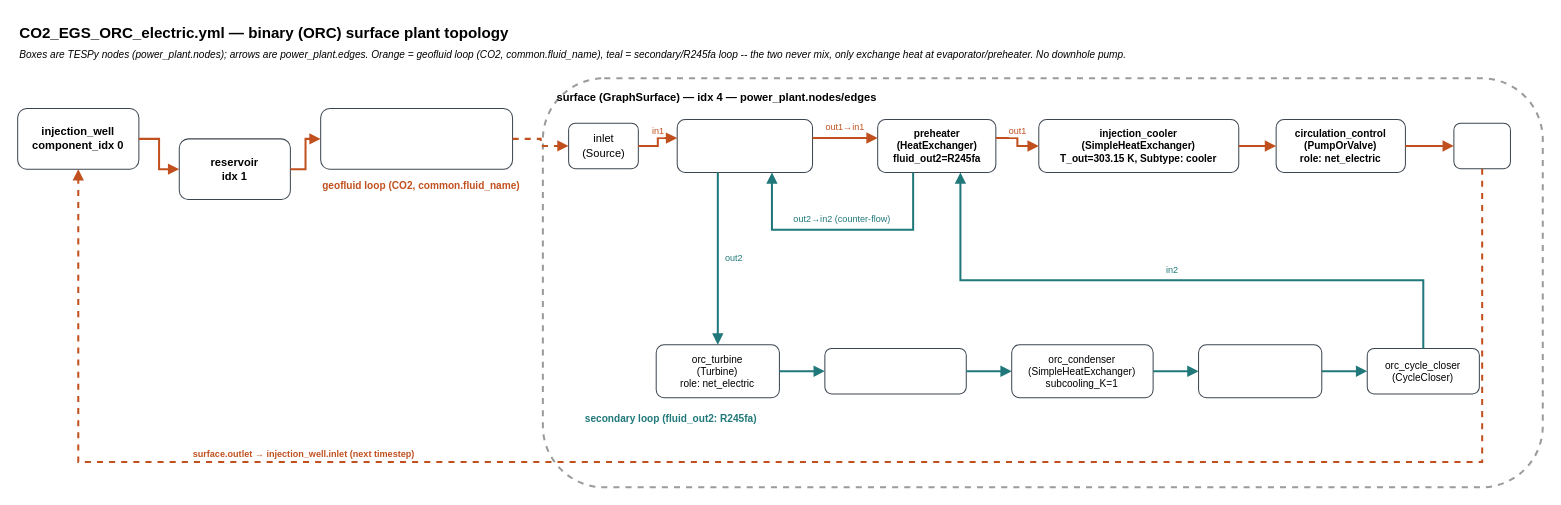
The diagram is 1561 pixels wide and 505 high, and some of its shapes have lost their labels. Here are the shapes that lost their labels. From the top down, the centre of each, then its label:
At point (416, 138): "production_well_lower → _upper idx 2 → 3, no downhole pump".
At point (744, 145): "evaporator (HeatExchanger) ttd_l=7, pr1/pr2=1.0".
At point (1481, 145): "outlet (Sink)".
At point (895, 370): "orc_desuperheater (SimpleHeatExchanger)".
At point (1260, 371): "orc_feed_pump (Compressor) role: net_electric".
